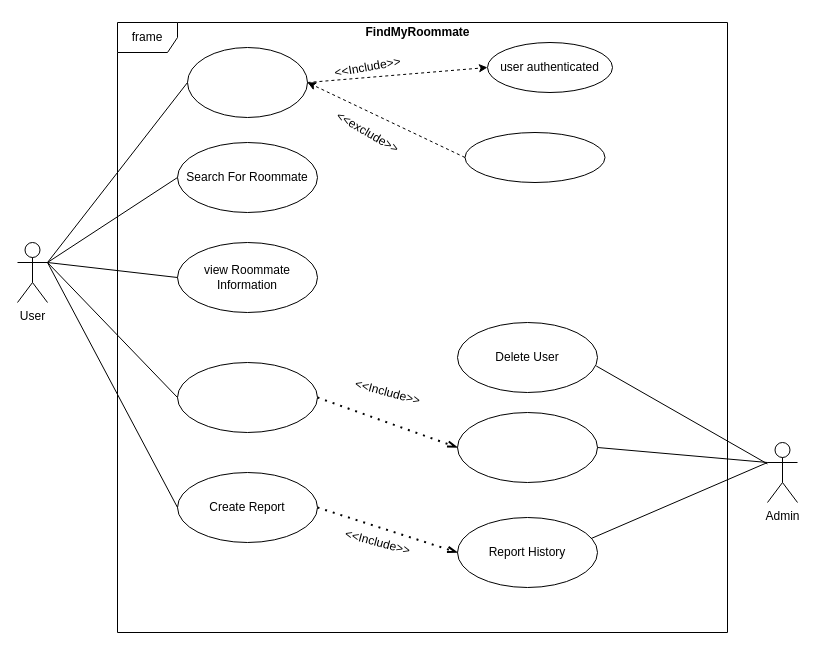
Some shapes in this 817 by 650 pixel diagram are drawn without their labels. Here are the shapes that lost their labels. From the top down, the box of each, then its label:
(186, 46, 308, 118): Log In
(464, 132, 605, 182): User doesn't match
(176, 362, 318, 432): Create Feedback
(456, 412, 598, 482): Feedback History
